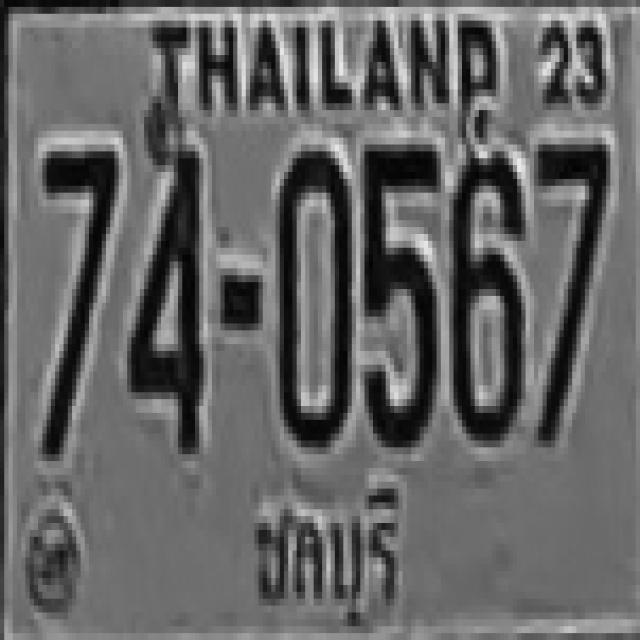0: (276, 144, 348, 440)
4: (127, 127, 199, 444)
5: (360, 137, 437, 440)
6: (449, 148, 522, 437)
7: (38, 145, 115, 454), (534, 137, 606, 440), (38, 144, 115, 358)
Chonburi: (240, 474, 417, 640)
